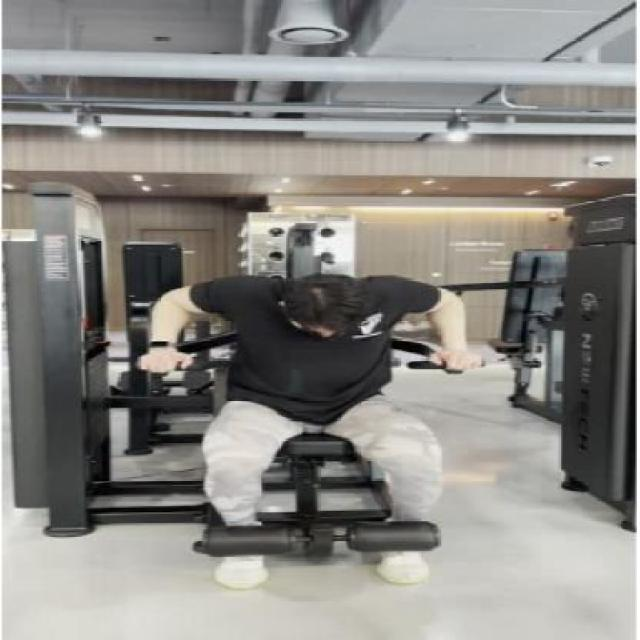seated dip machine: (0, 170, 517, 592)
